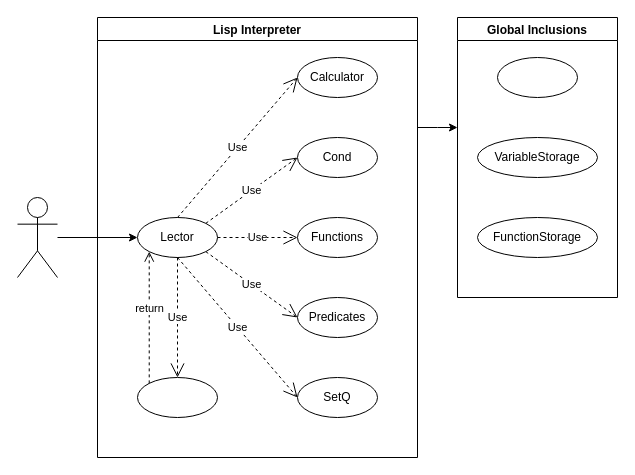
Some shapes in this 635 by 475 pixel diagram are drawn without their labels. Here are the shapes that lost their labels. From the top down, the centre of each, then its label:
At [537,77]: "Patterns".
At [37,237]: "User".
At [177,397]: "Tokenizer".
